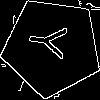Y: (27, 22, 77, 62)
